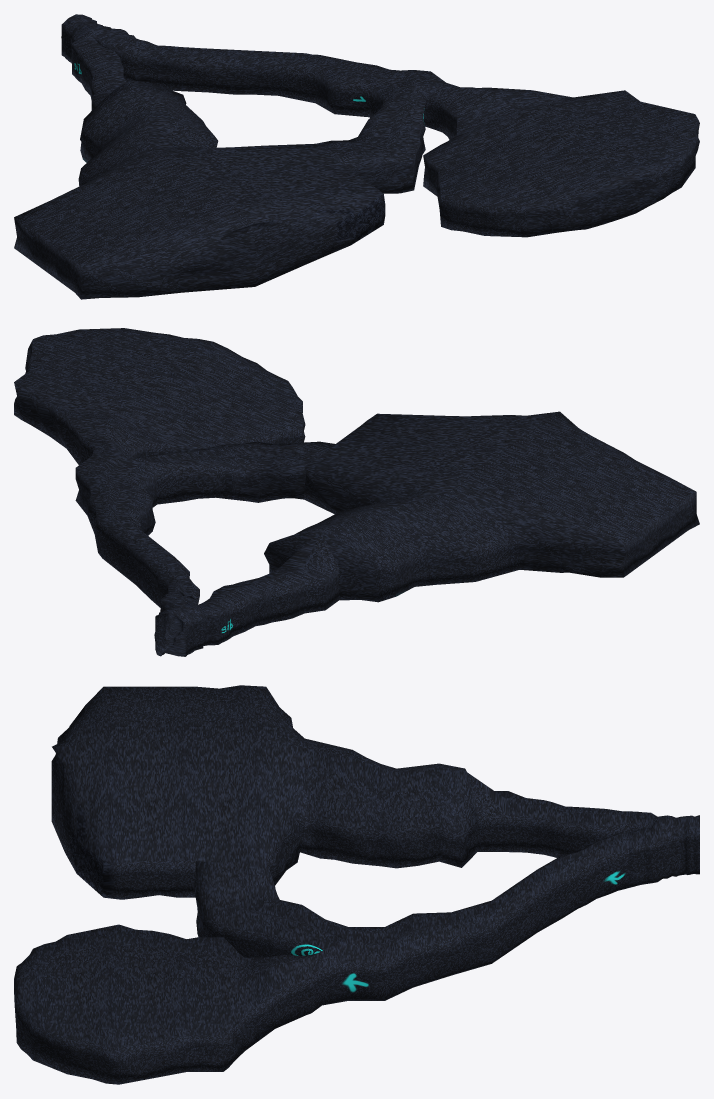
The model's file is BigCave.fbx.
3 views of the same model, one above another, from view 1: azimuth 30°, elevation 25°; view 2: azimuth 150°, elevation 25°; view 3: azimuth 270°, elevation 25° (orthographic). The views are drawn at different scales.
Visible parts, largest first — view 1: Plane; view 2: Plane; view 3: Plane.
Part boxes in pixels (x1,y1,x2,y2): Plane: (14,14,699,299); Plane: (14,328,699,656); Plane: (14,685,699,1084).
Size of the model in its own units: 21895 by 2655 by 17506.
